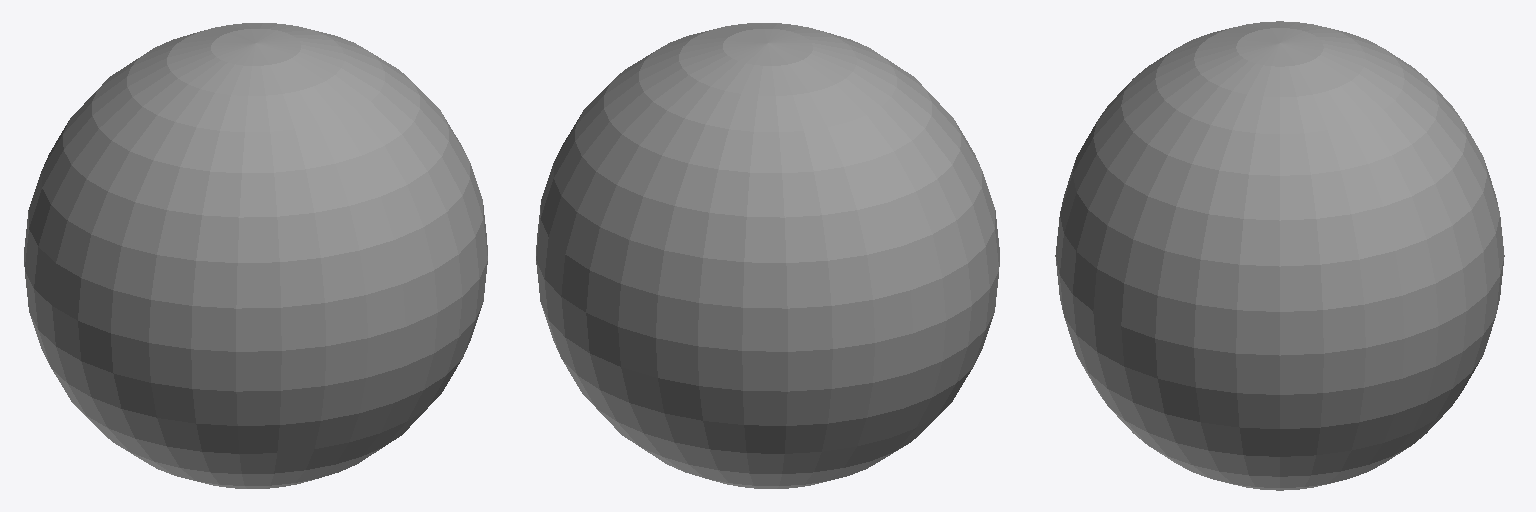
The model's file is shar2.obj.
3 renders of one model, left to right at view 1: azimuth 30°, elevation 25°; view 2: azimuth 150°, elevation 25°; view 3: azimuth 270°, elevation 25°, orthographic.
Parts seen in each view (by area): view 1: Sphere.002; view 2: Sphere.002; view 3: Sphere.002.
Part boxes in pixels (x1,y1,x2,y2): Sphere.002: (24,23,487,488); Sphere.002: (536,23,999,488); Sphere.002: (1055,21,1504,490).
Size of the model in its own units: 0.2093 by 0.2086 by 0.1995.